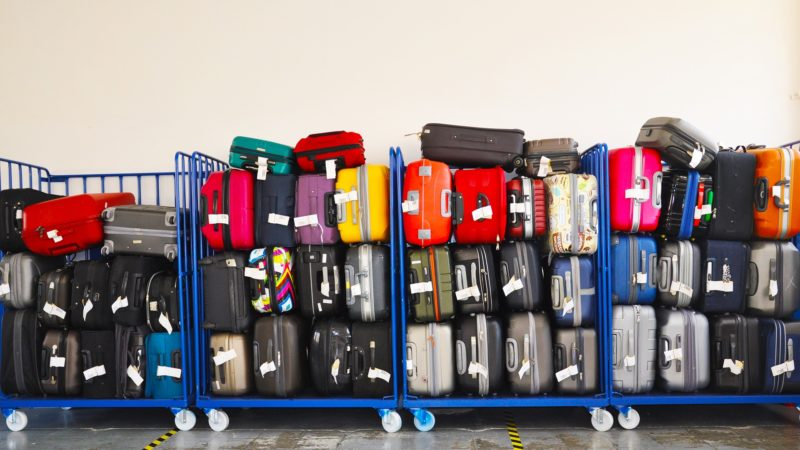luggage: (21, 193, 142, 258), (392, 159, 459, 250), (654, 303, 715, 398), (743, 140, 800, 241), (417, 118, 525, 170), (604, 301, 661, 399), (101, 200, 190, 262), (603, 145, 665, 233), (634, 113, 722, 172), (540, 172, 601, 257), (331, 158, 391, 243), (449, 163, 510, 245), (498, 310, 557, 394), (198, 168, 257, 251), (709, 149, 758, 248), (449, 314, 506, 398), (695, 234, 750, 315), (399, 244, 456, 322), (248, 316, 306, 392), (604, 231, 665, 303), (710, 309, 759, 398), (747, 236, 800, 316), (338, 243, 391, 322), (304, 318, 355, 399), (544, 253, 597, 330), (139, 330, 192, 405), (289, 169, 340, 246), (661, 171, 717, 241), (292, 246, 342, 324), (198, 257, 250, 332), (550, 323, 602, 397), (346, 321, 394, 401), (756, 313, 800, 399), (495, 238, 545, 312), (404, 323, 454, 397), (241, 247, 294, 316), (37, 323, 83, 400), (201, 328, 251, 398), (292, 128, 369, 172), (658, 235, 704, 308), (503, 175, 551, 242), (232, 136, 296, 177), (519, 138, 582, 177), (1, 248, 40, 311)
